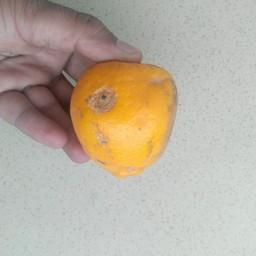Bad_orange: (66, 60, 180, 180)
